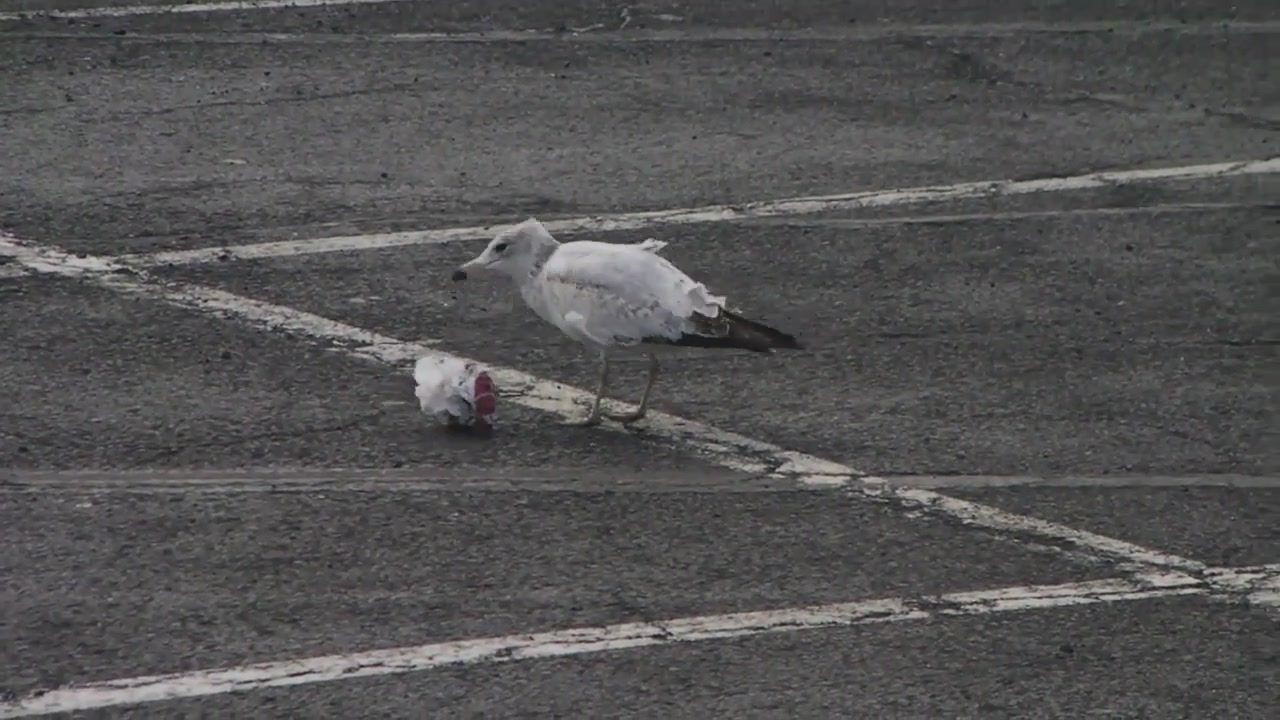bird: (451, 218, 807, 428)
